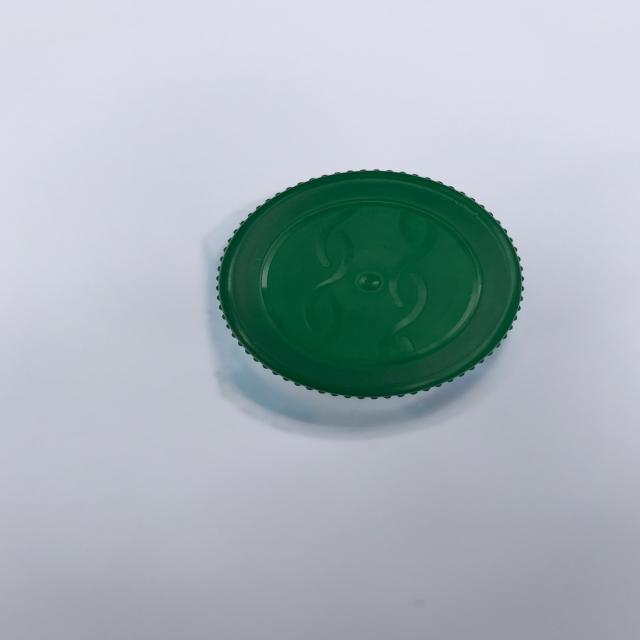plastic: (215, 168, 524, 399)
